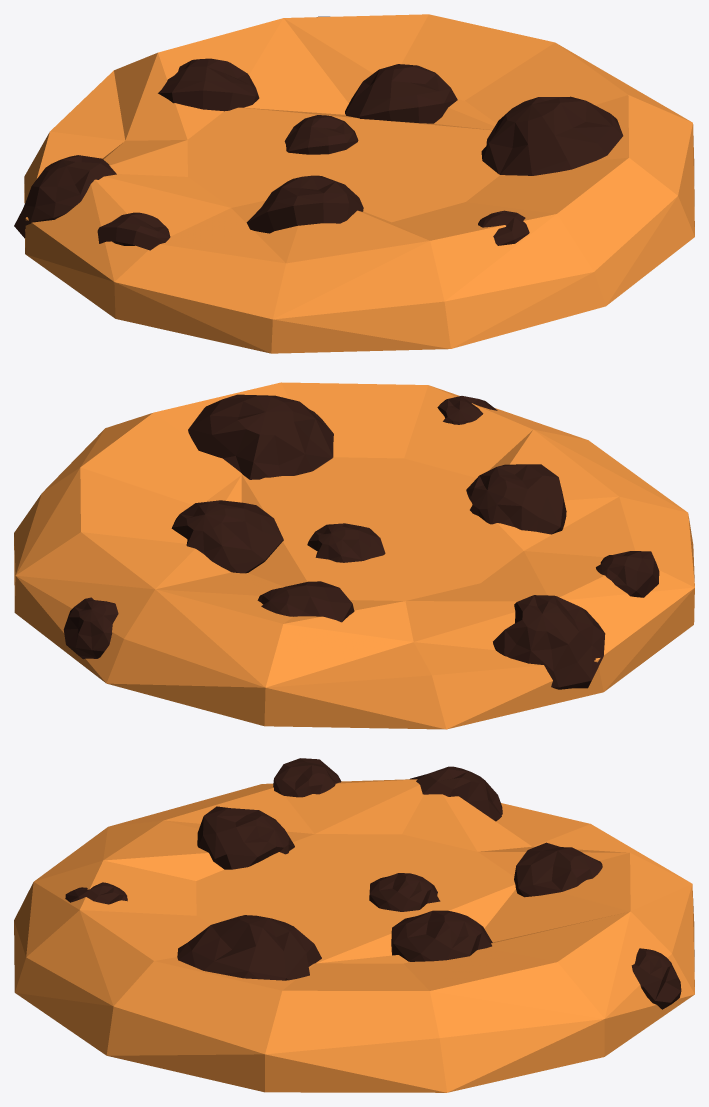
Rendered from Cookie.obj.
3 views of the same model, one above another, from view 1: azimuth 30°, elevation 25°; view 2: azimuth 150°, elevation 25°; view 3: azimuth 270°, elevation 25° (orthographic).
Bounding box in the file's own units: 0.1644 × 0.0309 × 0.1644.
